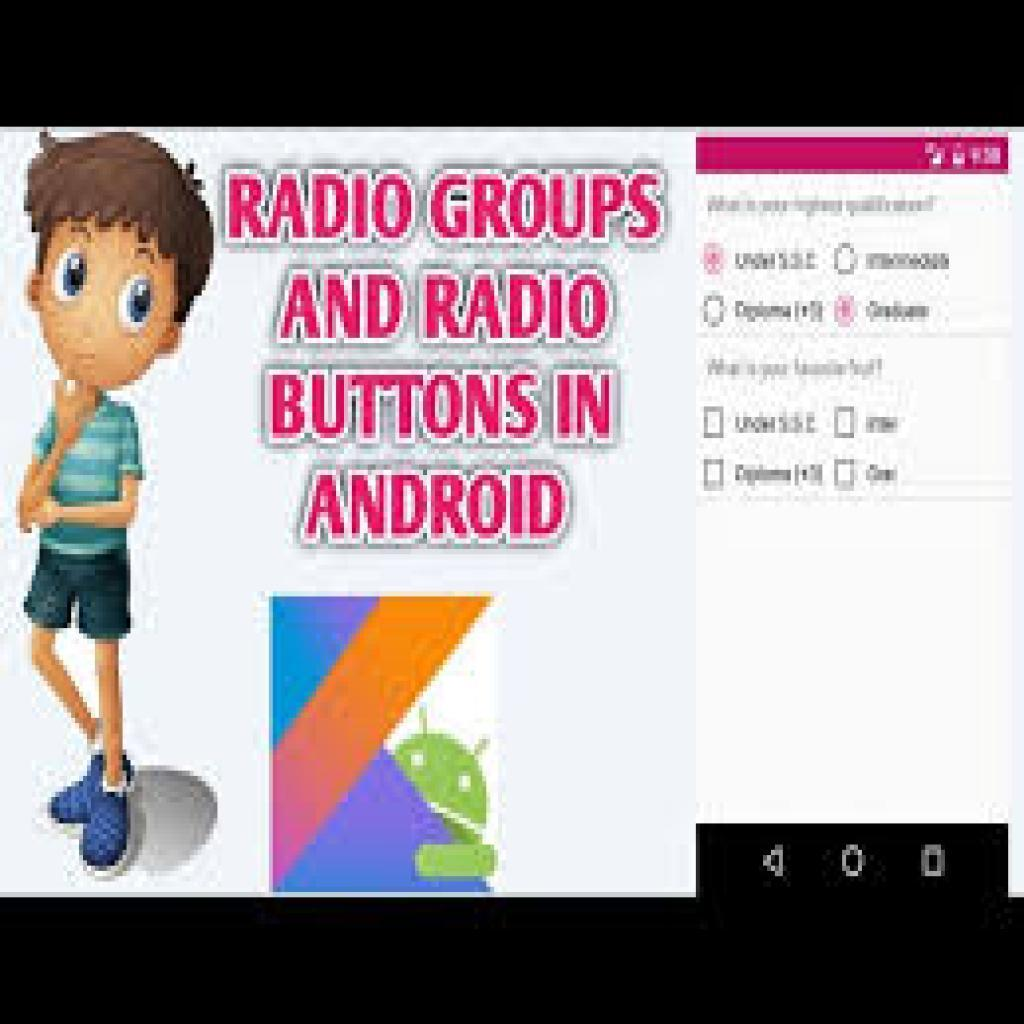checkbox: (830, 453, 859, 498), (701, 455, 731, 494), (833, 402, 857, 447), (701, 404, 727, 445)
radio: (832, 288, 862, 333), (700, 290, 729, 335), (830, 237, 860, 277), (703, 238, 729, 280)
